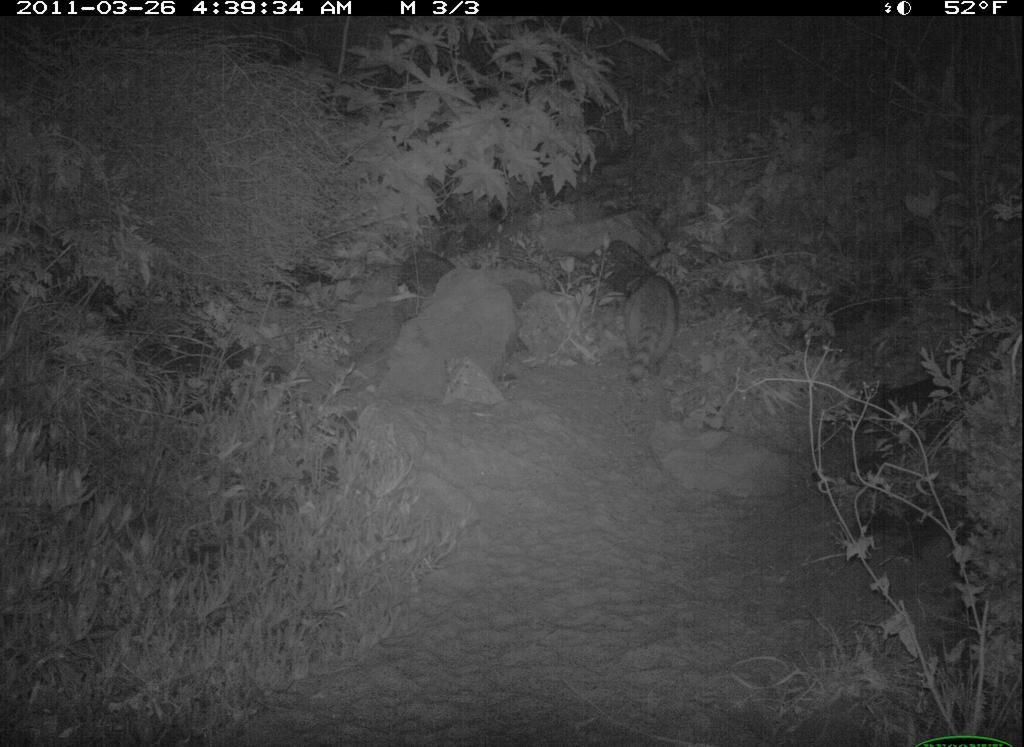raccoon: (612, 263, 689, 395)
